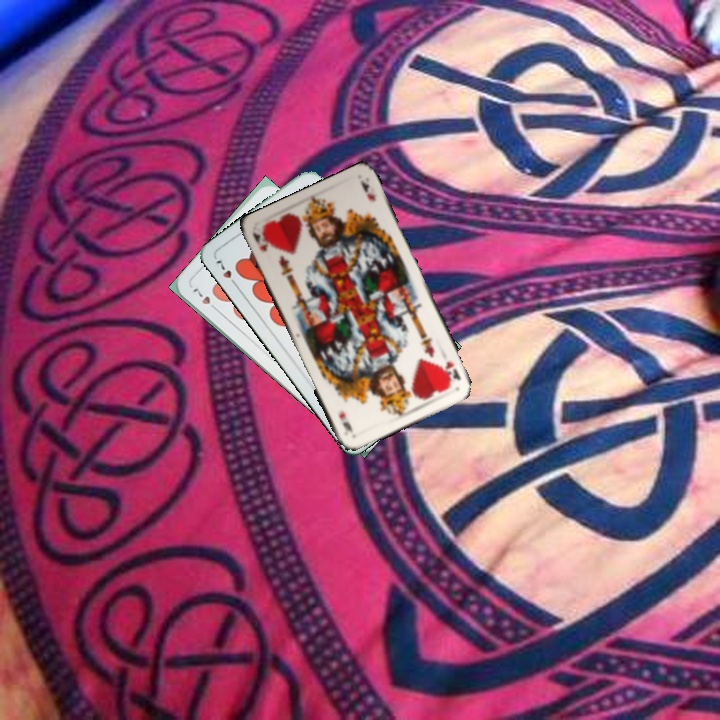H7: (188, 282, 221, 314), (211, 254, 240, 290)
HK: (440, 357, 463, 384), (249, 228, 271, 254)
